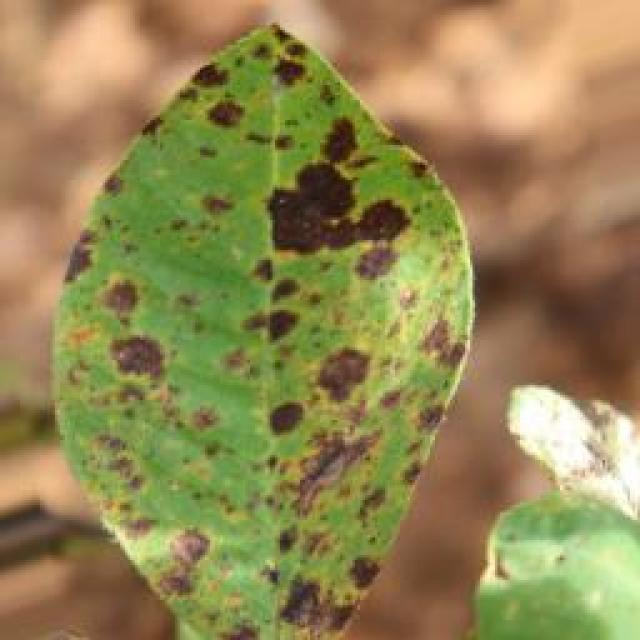Yellowish: (39, 37, 474, 640)
